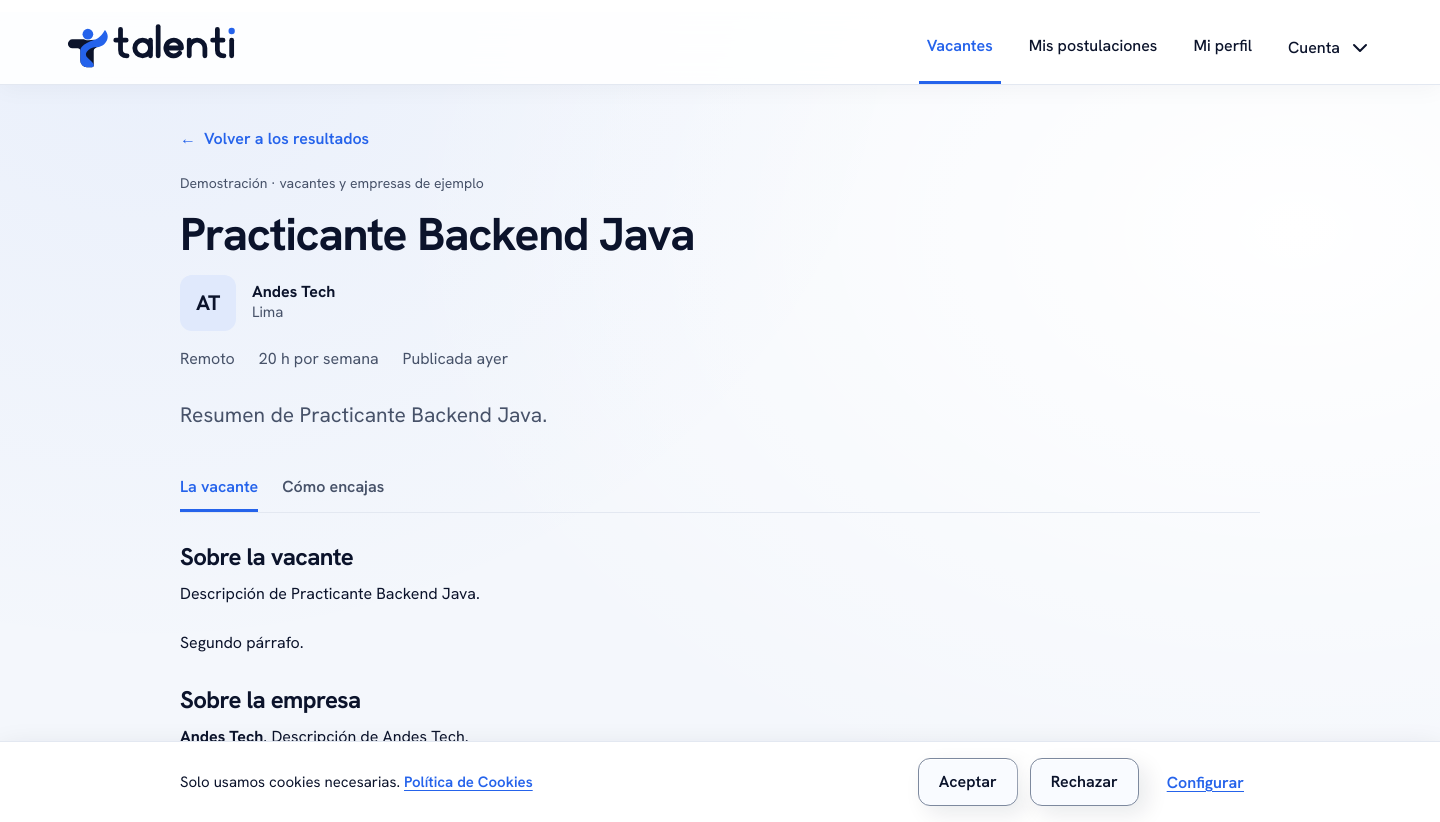
Test case: Panel "Tu compatibilidad" in the detail (007-18 to 007-21) › 007-18: shows what the server sent: ring, verdict, no "Basado en" at 100 %
The image size is (1440, 822).
Click the button "Cómo encajas".
click(333, 488)  # box x1=282 y1=464 x2=384 y2=512
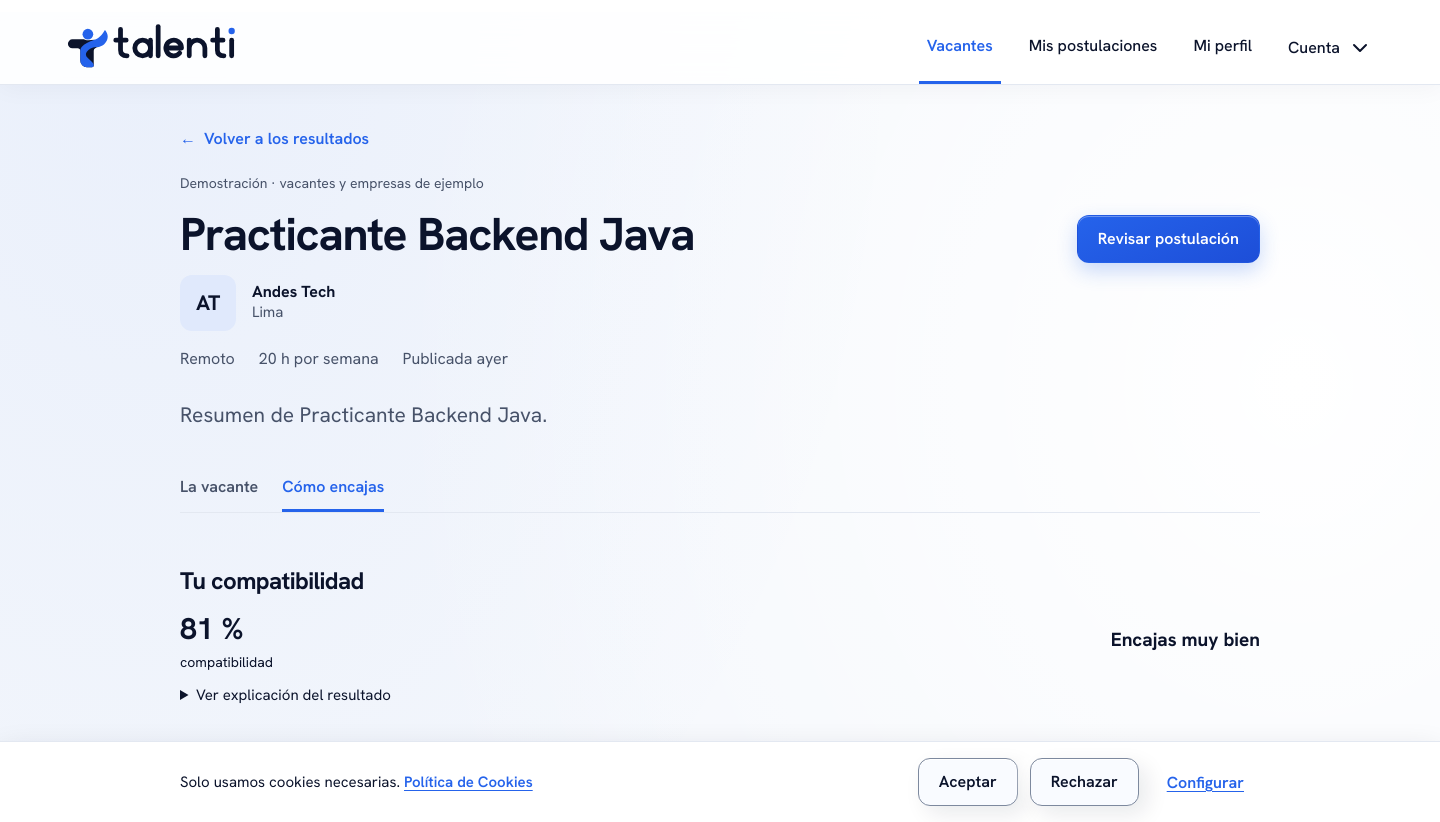
Now the text "81 %" is shown, box x1=180 y1=606 x2=273 y2=674
Now the text "Encajas muy bien" is shown, box x1=1111 y1=629 x2=1260 y2=651
